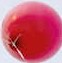Balloon: (1, 1, 62, 63)
